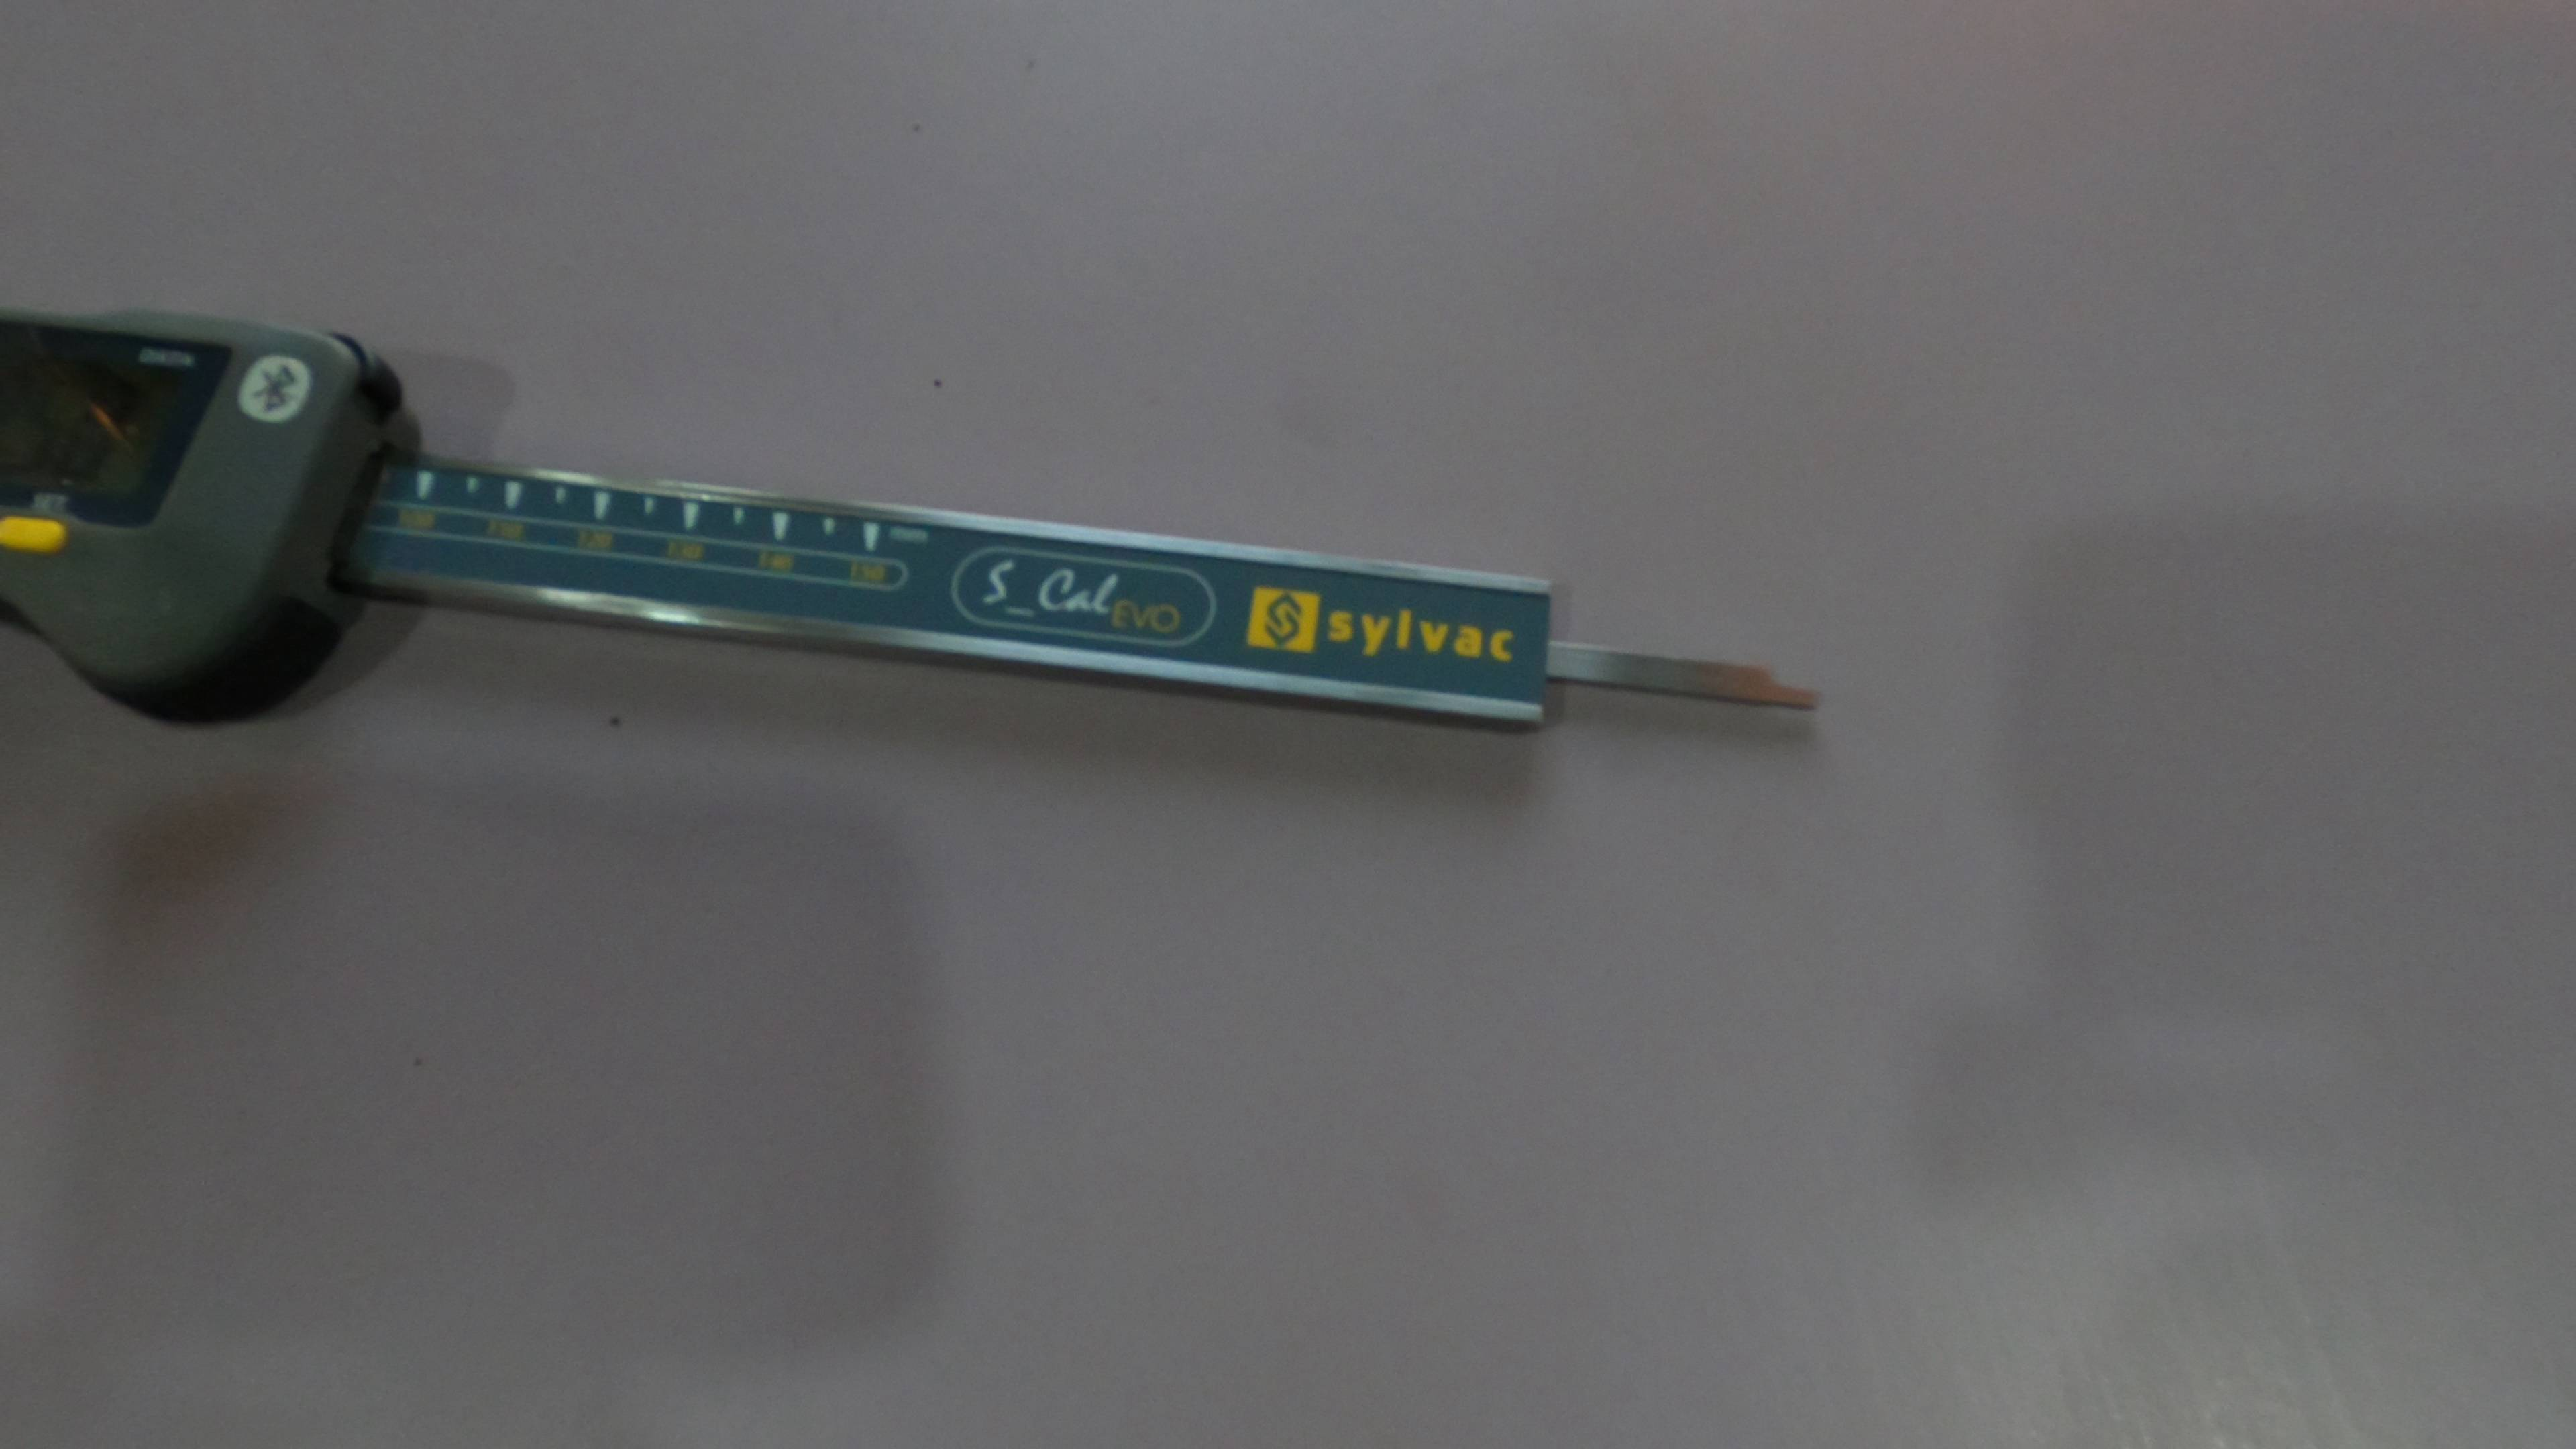vernier_caliper: (7, 234, 1831, 745)
